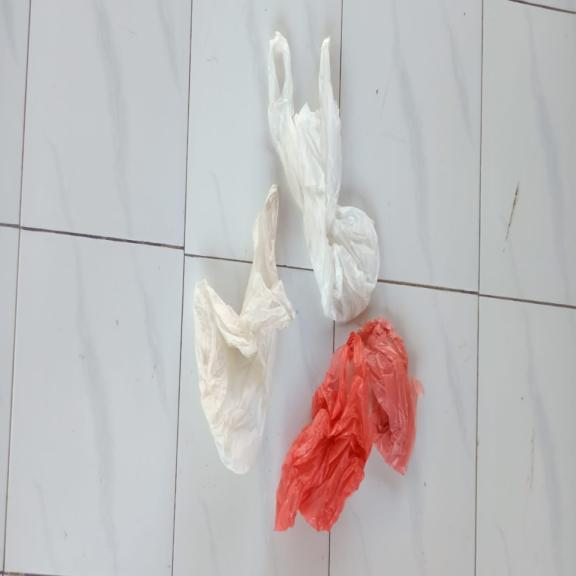Plastik: (267, 30, 380, 324), (274, 318, 425, 536), (193, 183, 296, 475)
